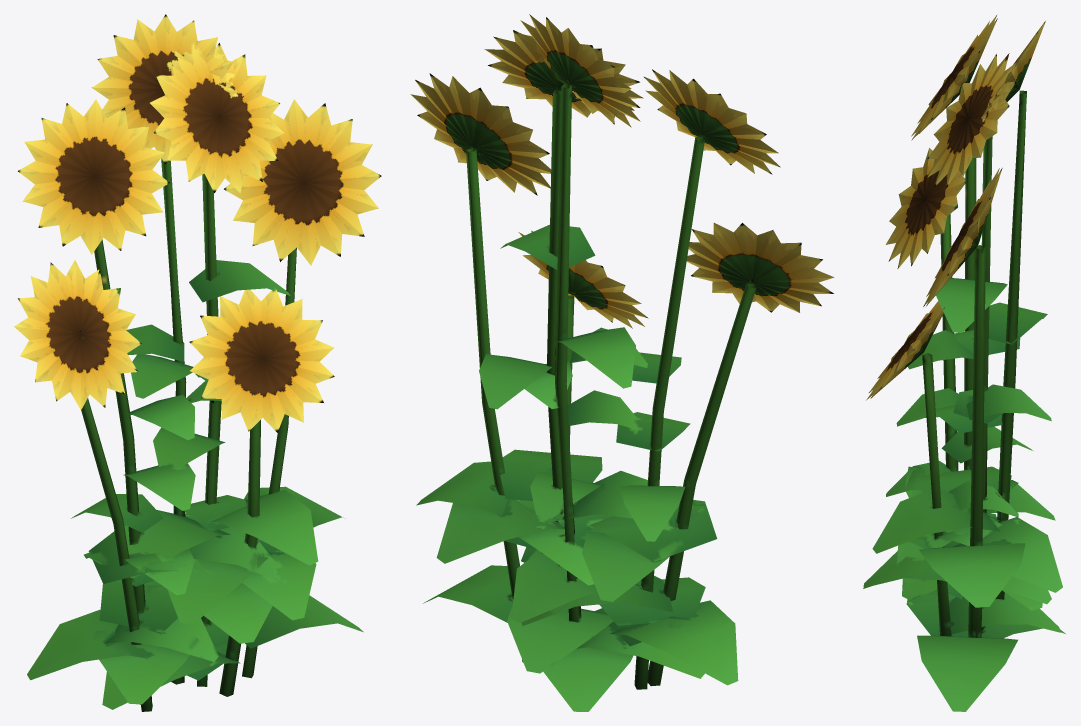
Rendered from sunflower_clump.glb.
3 renders of one model, left to right at view 1: azimuth 30°, elevation 25°; view 2: azimuth 150°, elevation 25°; view 3: azimuth 270°, elevation 25°, orthographic. The views are drawn at different scales.
Parts seen in each view (by area): view 1: sunflower_clump; view 2: sunflower_clump; view 3: sunflower_clump.
Part boxes in pixels (x1,y1,x2,y2): sunflower_clump: (14,14,381,711); sunflower_clump: (410,14,834,711); sunflower_clump: (863,15,1065,711).
Size of the model in its own units: 0.9845 by 1.61 by 0.4694.
Materials: 1 (1 with a texture image).
